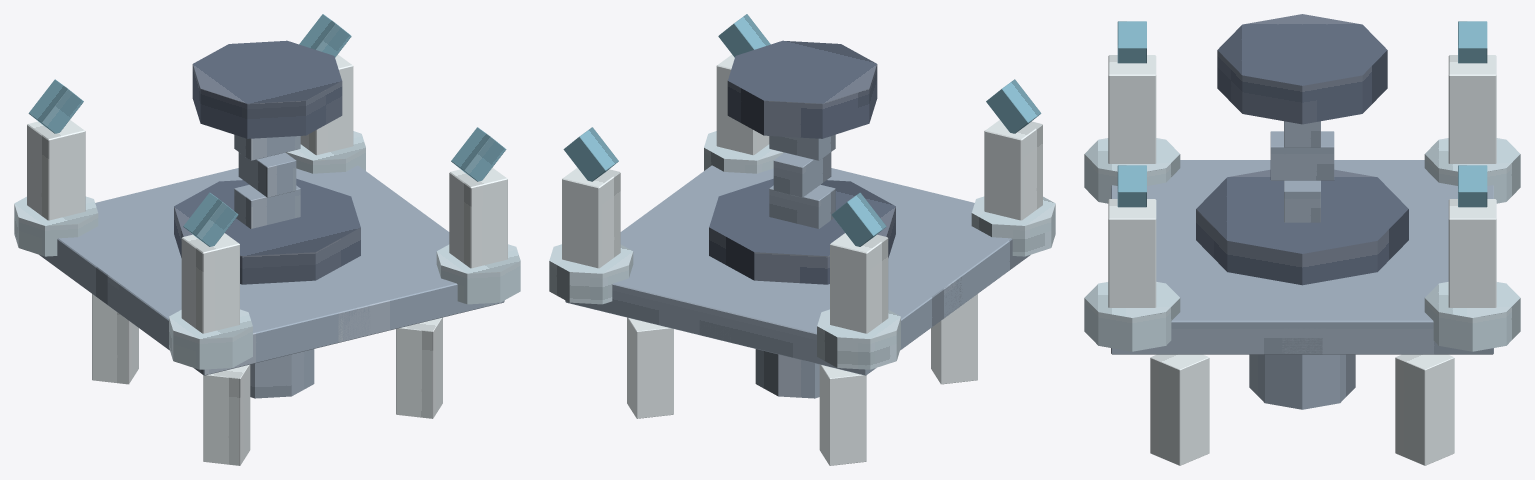
File: dining_chandelier_crystal.glb
3 views of the same model, side by side, from view 1: azimuth 30°, elevation 25°; view 2: azimuth 150°, elevation 25°; view 3: azimuth 270°, elevation 25° (orthographic). The views are drawn at different scales.
Visible parts, largest first — view 1: CeilingMount, Arm_1, Arm_2, ChandelierHub, Arm_3, Candle_2, Candle_3, Candle_1, Crystal_1, Arm_4, Crystal_2, CandleCup_1 (+13 smaller); view 2: CeilingMount, Arm_3, Arm_4, Arm_1, ChandelierHub, Candle_4, Candle_1, Candle_3, Crystal_3, Arm_2, Crystal_4, CandleCup_3 (+13 smaller); view 3: ChandelierHub, CeilingMount, Arm_2, Arm_4, Crystal_2, Crystal_4, LowerFinial, Candle_1, Candle_2, Candle_3, Candle_4, Arm_1 (+12 smaller).
Boxes of the visible parts, box(x1,y1,x2,y2) form: CeilingMount: box(192, 40, 342, 138); Arm_1: box(107, 257, 370, 375); Arm_2: box(297, 215, 504, 342); ChandelierHub: box(174, 178, 360, 284); Arm_3: box(39, 178, 208, 304); Candle_2: box(449, 167, 507, 268); Candle_3: box(27, 120, 85, 220); Candle_1: box(181, 233, 239, 333); Crystal_1: box(203, 364, 250, 465); Arm_4: box(166, 165, 425, 231); Crystal_2: box(396, 317, 442, 418); CandleCup_1: box(169, 309, 252, 369); CeilingMount: box(727, 40, 877, 138); Arm_3: box(699, 258, 961, 375); Arm_4: box(565, 215, 772, 340); Arm_1: box(861, 178, 1030, 317); ChandelierHub: box(709, 178, 895, 284); Candle_4: box(562, 167, 620, 268); Candle_1: box(984, 120, 1042, 220); Candle_3: box(830, 233, 888, 333); Crystal_3: box(819, 364, 866, 465); Arm_2: box(644, 165, 904, 231); Crystal_4: box(627, 317, 673, 418); CandleCup_3: box(817, 309, 900, 369); ChandelierHub: box(1196, 169, 1408, 285); CeilingMount: box(1217, 14, 1387, 124); Arm_2: box(1111, 249, 1322, 354); Arm_4: box(1282, 249, 1493, 354); Crystal_2: box(1150, 354, 1209, 465); Crystal_4: box(1395, 354, 1454, 465); LowerFinial: box(1249, 354, 1355, 409); Candle_1: box(1108, 55, 1156, 163); Candle_2: box(1108, 199, 1156, 307); Candle_3: box(1448, 55, 1496, 163); Candle_4: box(1448, 199, 1496, 307); Arm_1: box(1111, 160, 1270, 248).
Size of the model in its own units: 0.82 by 0.73 by 0.82.
1 material, 1 textured.
